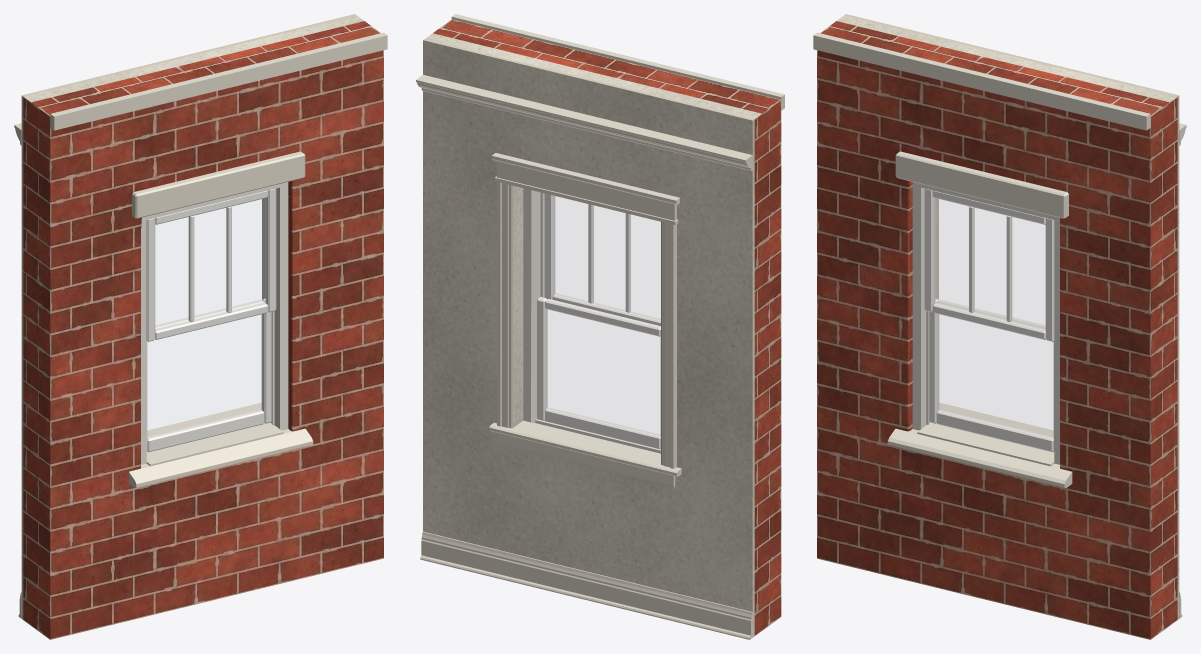
Rendered from wall_brick_window.glb.
The picture shows the model from 3 angles, left to right: view 1: azimuth 30°, elevation 25°; view 2: azimuth 150°, elevation 25°; view 3: azimuth 330°, elevation 25°; orthographic projection.
Visible parts, largest first — view 1: wall_brick_window_brick, wall_brick_window_trim, folha_glass, wall_brick_window_glass, wall_brick_window_sash, wall_brick_window_frame, wall_brick_window_plaster, folha_sash, molduras; view 2: wall_brick_window_plaster, molduras, wall_brick_window_brick, folha_glass, wall_brick_window_glass, wall_brick_window_frame, folha_sash, wall_brick_window_sash, wall_brick_window_trim; view 3: wall_brick_window_brick, wall_brick_window_trim, folha_glass, wall_brick_window_glass, wall_brick_window_sash, wall_brick_window_frame, wall_brick_window_plaster, folha_sash, molduras.
Boxes of the visible parts, <box> form: wall_brick_window_brick: <box>23,21,383,639</box>; wall_brick_window_trim: <box>50,32,387,487</box>; folha_glass: <box>148,314,262,437</box>; wall_brick_window_glass: <box>156,198,266,329</box>; wall_brick_window_sash: <box>146,188,276,341</box>; wall_brick_window_frame: <box>141,182,288,464</box>; wall_brick_window_plaster: <box>21,14,363,619</box>; folha_sash: <box>146,298,271,452</box>; molduras: <box>14,123,263,618</box>; wall_brick_window_plaster: <box>423,33,761,637</box>; molduras: <box>416,74,752,639</box>; wall_brick_window_brick: <box>433,19,781,635</box>; folha_glass: <box>546,310,659,434</box>; wall_brick_window_glass: <box>554,196,660,319</box>; wall_brick_window_frame: <box>523,188,660,453</box>; folha_sash: <box>537,297,660,449</box>; wall_brick_window_sash: <box>544,193,660,325</box>; wall_brick_window_trim: <box>451,14,784,453</box>; wall_brick_window_brick: <box>817,21,1177,639</box>; wall_brick_window_trim: <box>813,32,1150,487</box>; folha_glass: <box>938,314,1052,437</box>; wall_brick_window_glass: <box>934,198,1044,329</box>; wall_brick_window_sash: <box>924,188,1054,341</box>; wall_brick_window_frame: <box>912,182,1059,464</box>; wall_brick_window_plaster: <box>837,14,1179,619</box>; folha_sash: <box>929,298,1054,452</box>; molduras: <box>937,123,1186,618</box>.
Size of the model in its own units: 2 by 3.02 by 0.455.
Materials: 6 (2 with a texture image).
